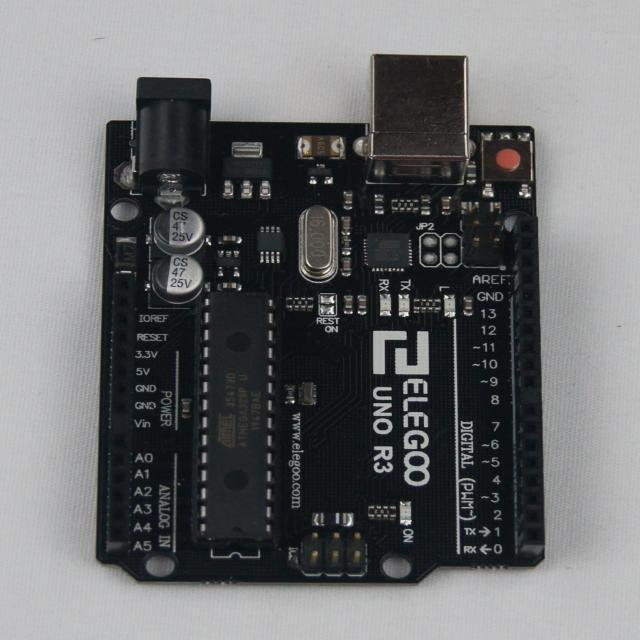Arduino Uno -Black-: (98, 55, 544, 584)
